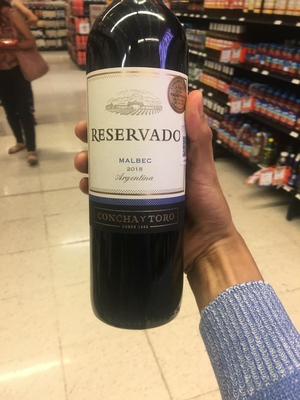reservado malbec: (84, 4, 200, 321)
